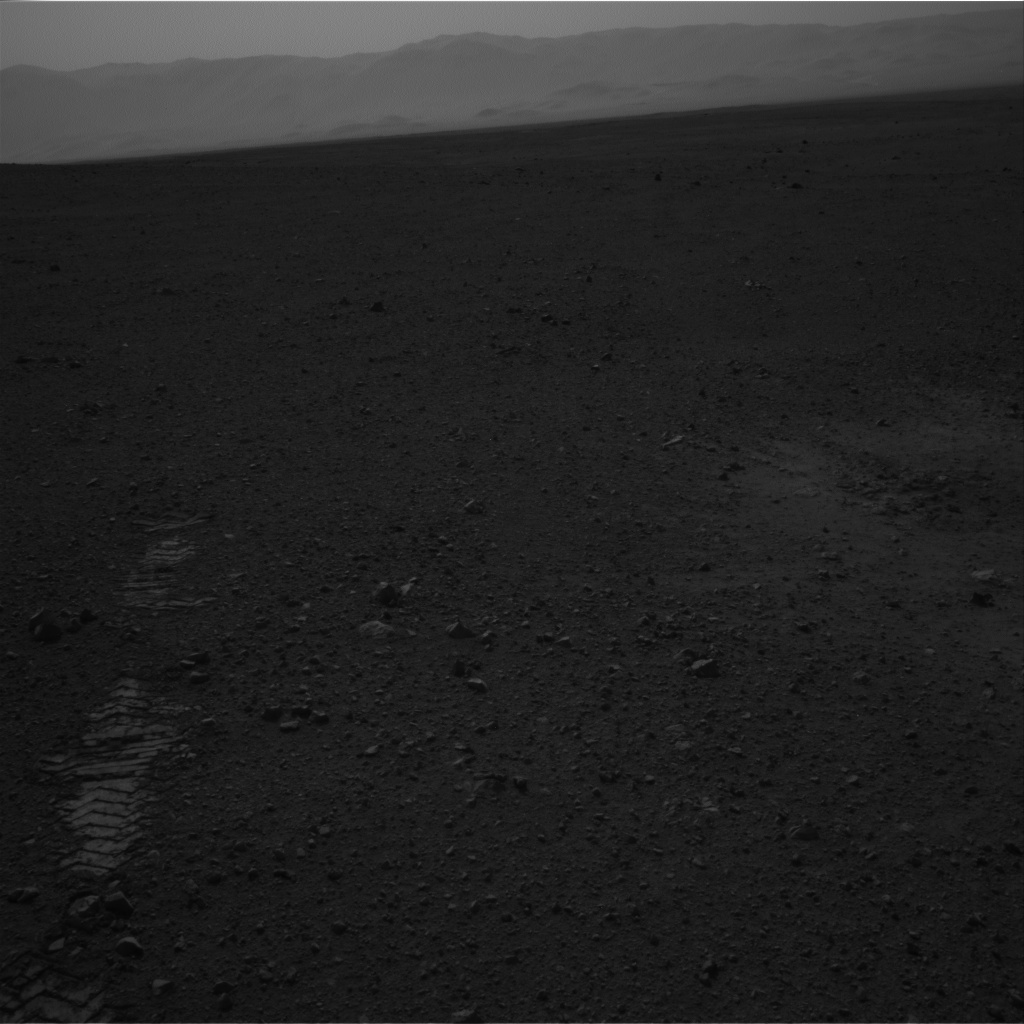soil: (6, 210, 1019, 1016)
